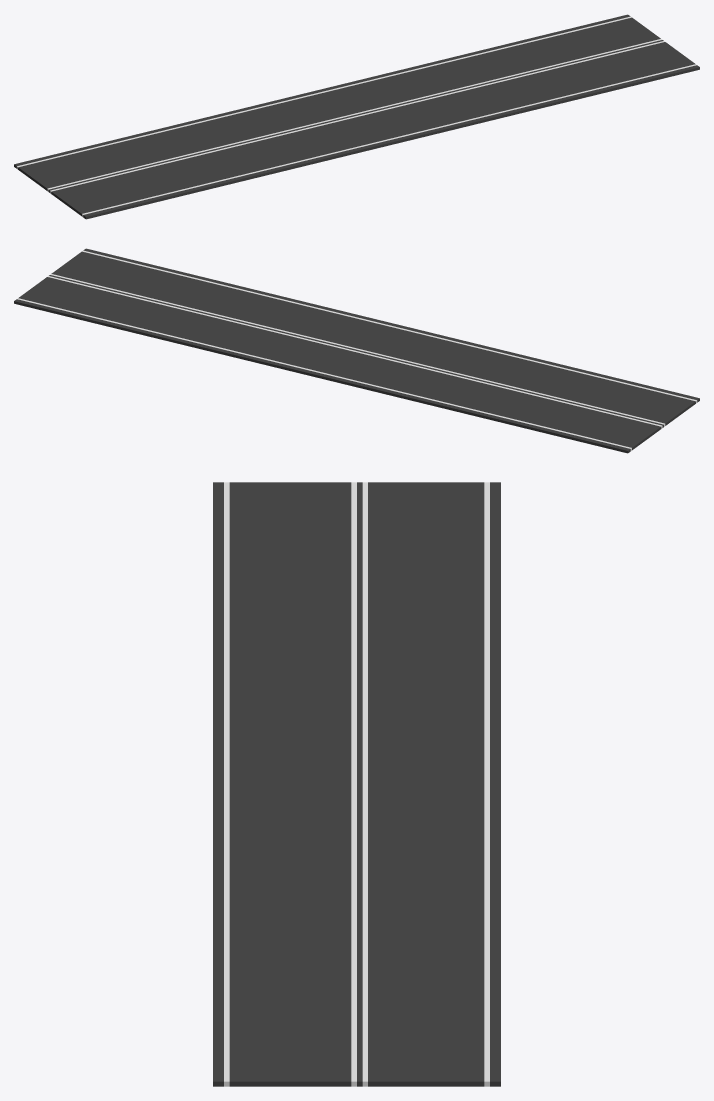
Rendered from first_map-11.obj.
The picture shows the model from 3 angles, top to bottom: view 1: azimuth 30°, elevation 25°; view 2: azimuth 150°, elevation 25°; view 3: azimuth 270°, elevation 25°; orthographic projection. The views are drawn at different scales.
Size of the model in its own units: 25.6 by 0.1 by 5.2.
Materials: 1 (1 with a texture image).
